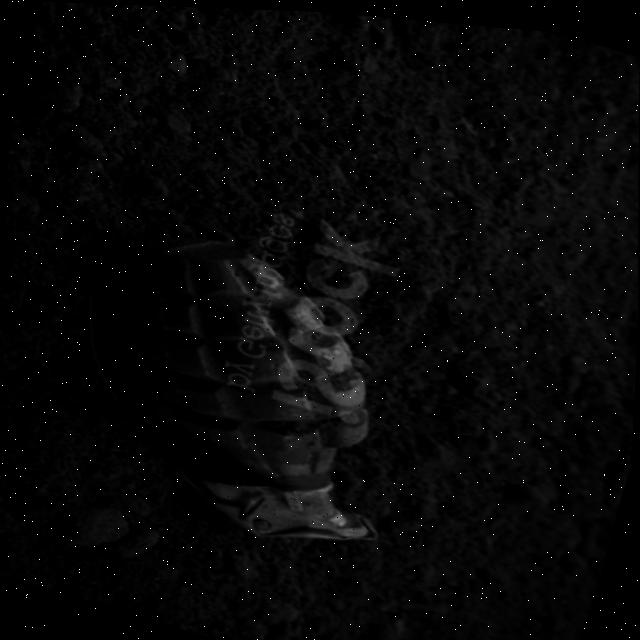grenade: (20, 190, 454, 575)
